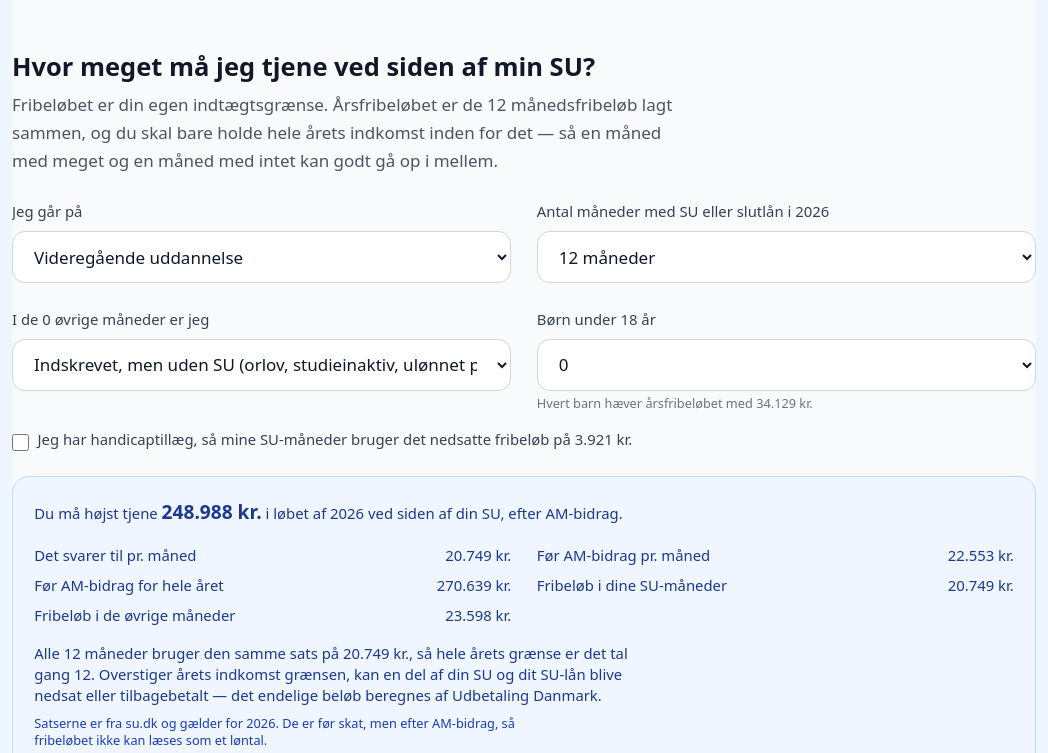
Test: SU-indtægtsgrænsen: valgene ændrer svaret › et barn under 18 år lægger 34.129 til ÅRET, og rækken vises kun når der er børn
Select "2" in the dropdown labelled "Børn under 18 år". click: x=786, y=365
box: [537,338,1036,391]
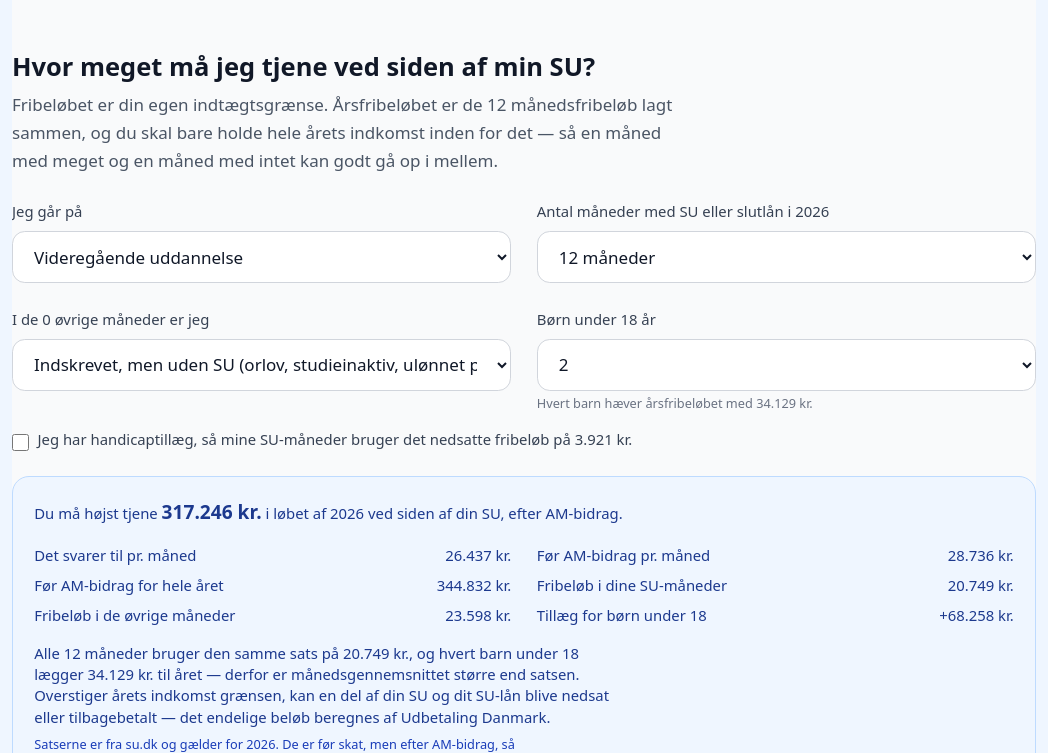
expect the text "Tillæg for børn under 18" is shown: met, box [537,604,707,626]
expect the text "+68.258 kr." is shown: met, box [939,604,1014,626]
